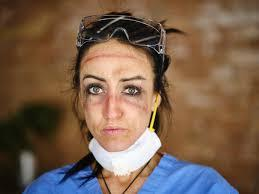Wore Mask Incorrectly: (70, 33, 170, 181)
